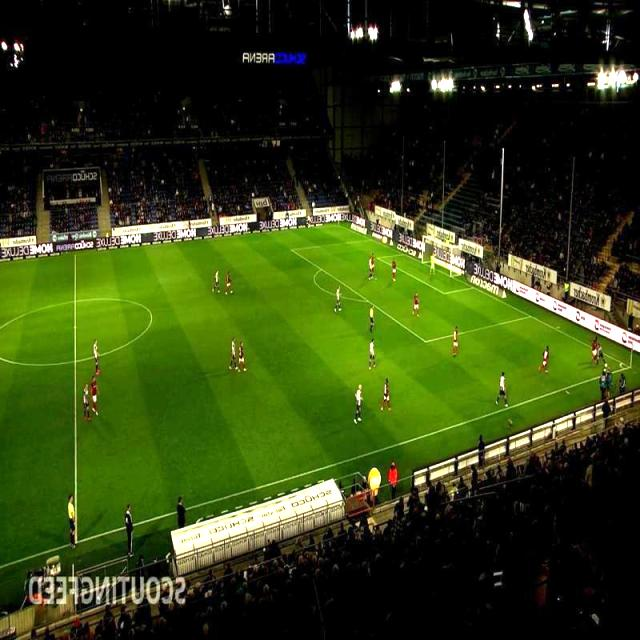bigarea_bottom_inner: (420, 336, 430, 346)
bigarea_bottom_outter: (525, 310, 536, 322)
bigarea_top_inner: (286, 244, 298, 256)
bigarea_top_outter: (365, 234, 376, 245)
bottom_arc_area_intersection: (362, 296, 373, 306)
corner: (334, 220, 344, 232)
halfcircle_bottom: (66, 355, 83, 368)
halfcircle_top: (68, 296, 80, 306)
midline_bottom_intersection: (65, 533, 86, 552)
midline_top_intersection: (70, 249, 80, 260)
smallarea_bottom_outter: (468, 282, 479, 293)
smallarea_top_inner: (372, 252, 383, 262)
smallarea_top_outter: (398, 249, 409, 260)
top_arc_area_intersection: (315, 264, 326, 274)
